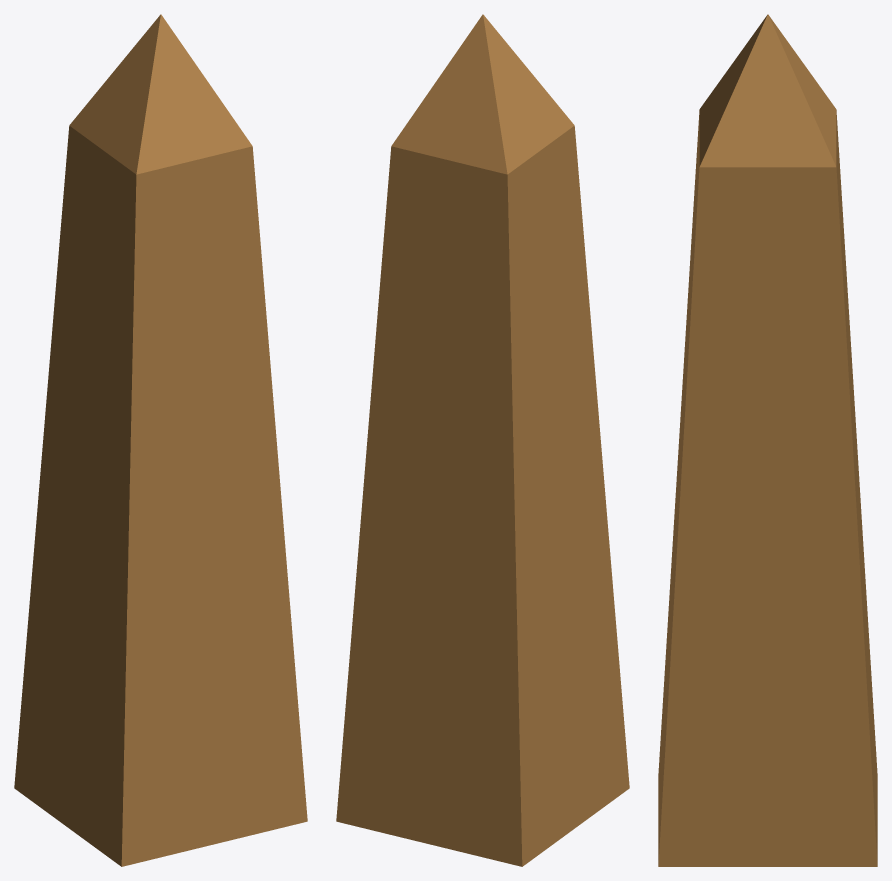
Rendered from Monolith.fbx.
3 renders of one model, left to right at view 1: azimuth 30°, elevation 25°; view 2: azimuth 150°, elevation 25°; view 3: azimuth 270°, elevation 25°, orthographic.
Parts seen in each view (by area): view 1: Cube; view 2: Cube; view 3: Cube.
Boxes of the visible parts, bbox=[...] form: Cube: bbox=[14, 14, 307, 866]; Cube: bbox=[336, 14, 629, 866]; Cube: bbox=[658, 14, 877, 866].
Size of the model in its own units: 42.76 by 174 by 42.76.
